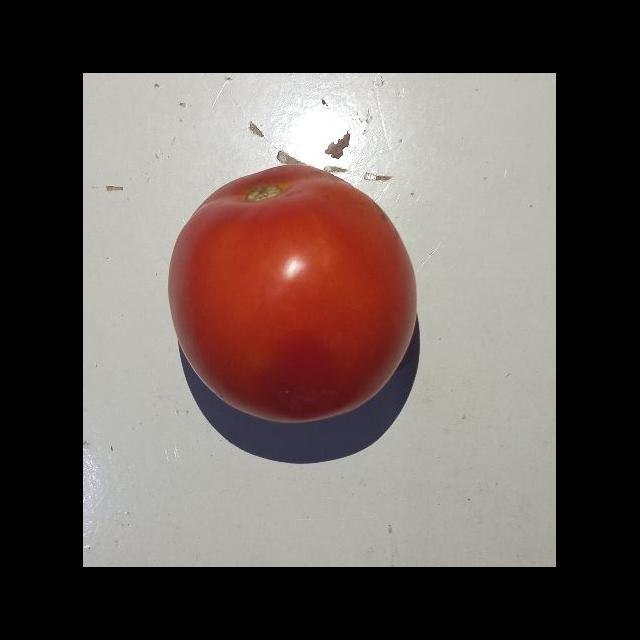tomato: (161, 160, 421, 427)
